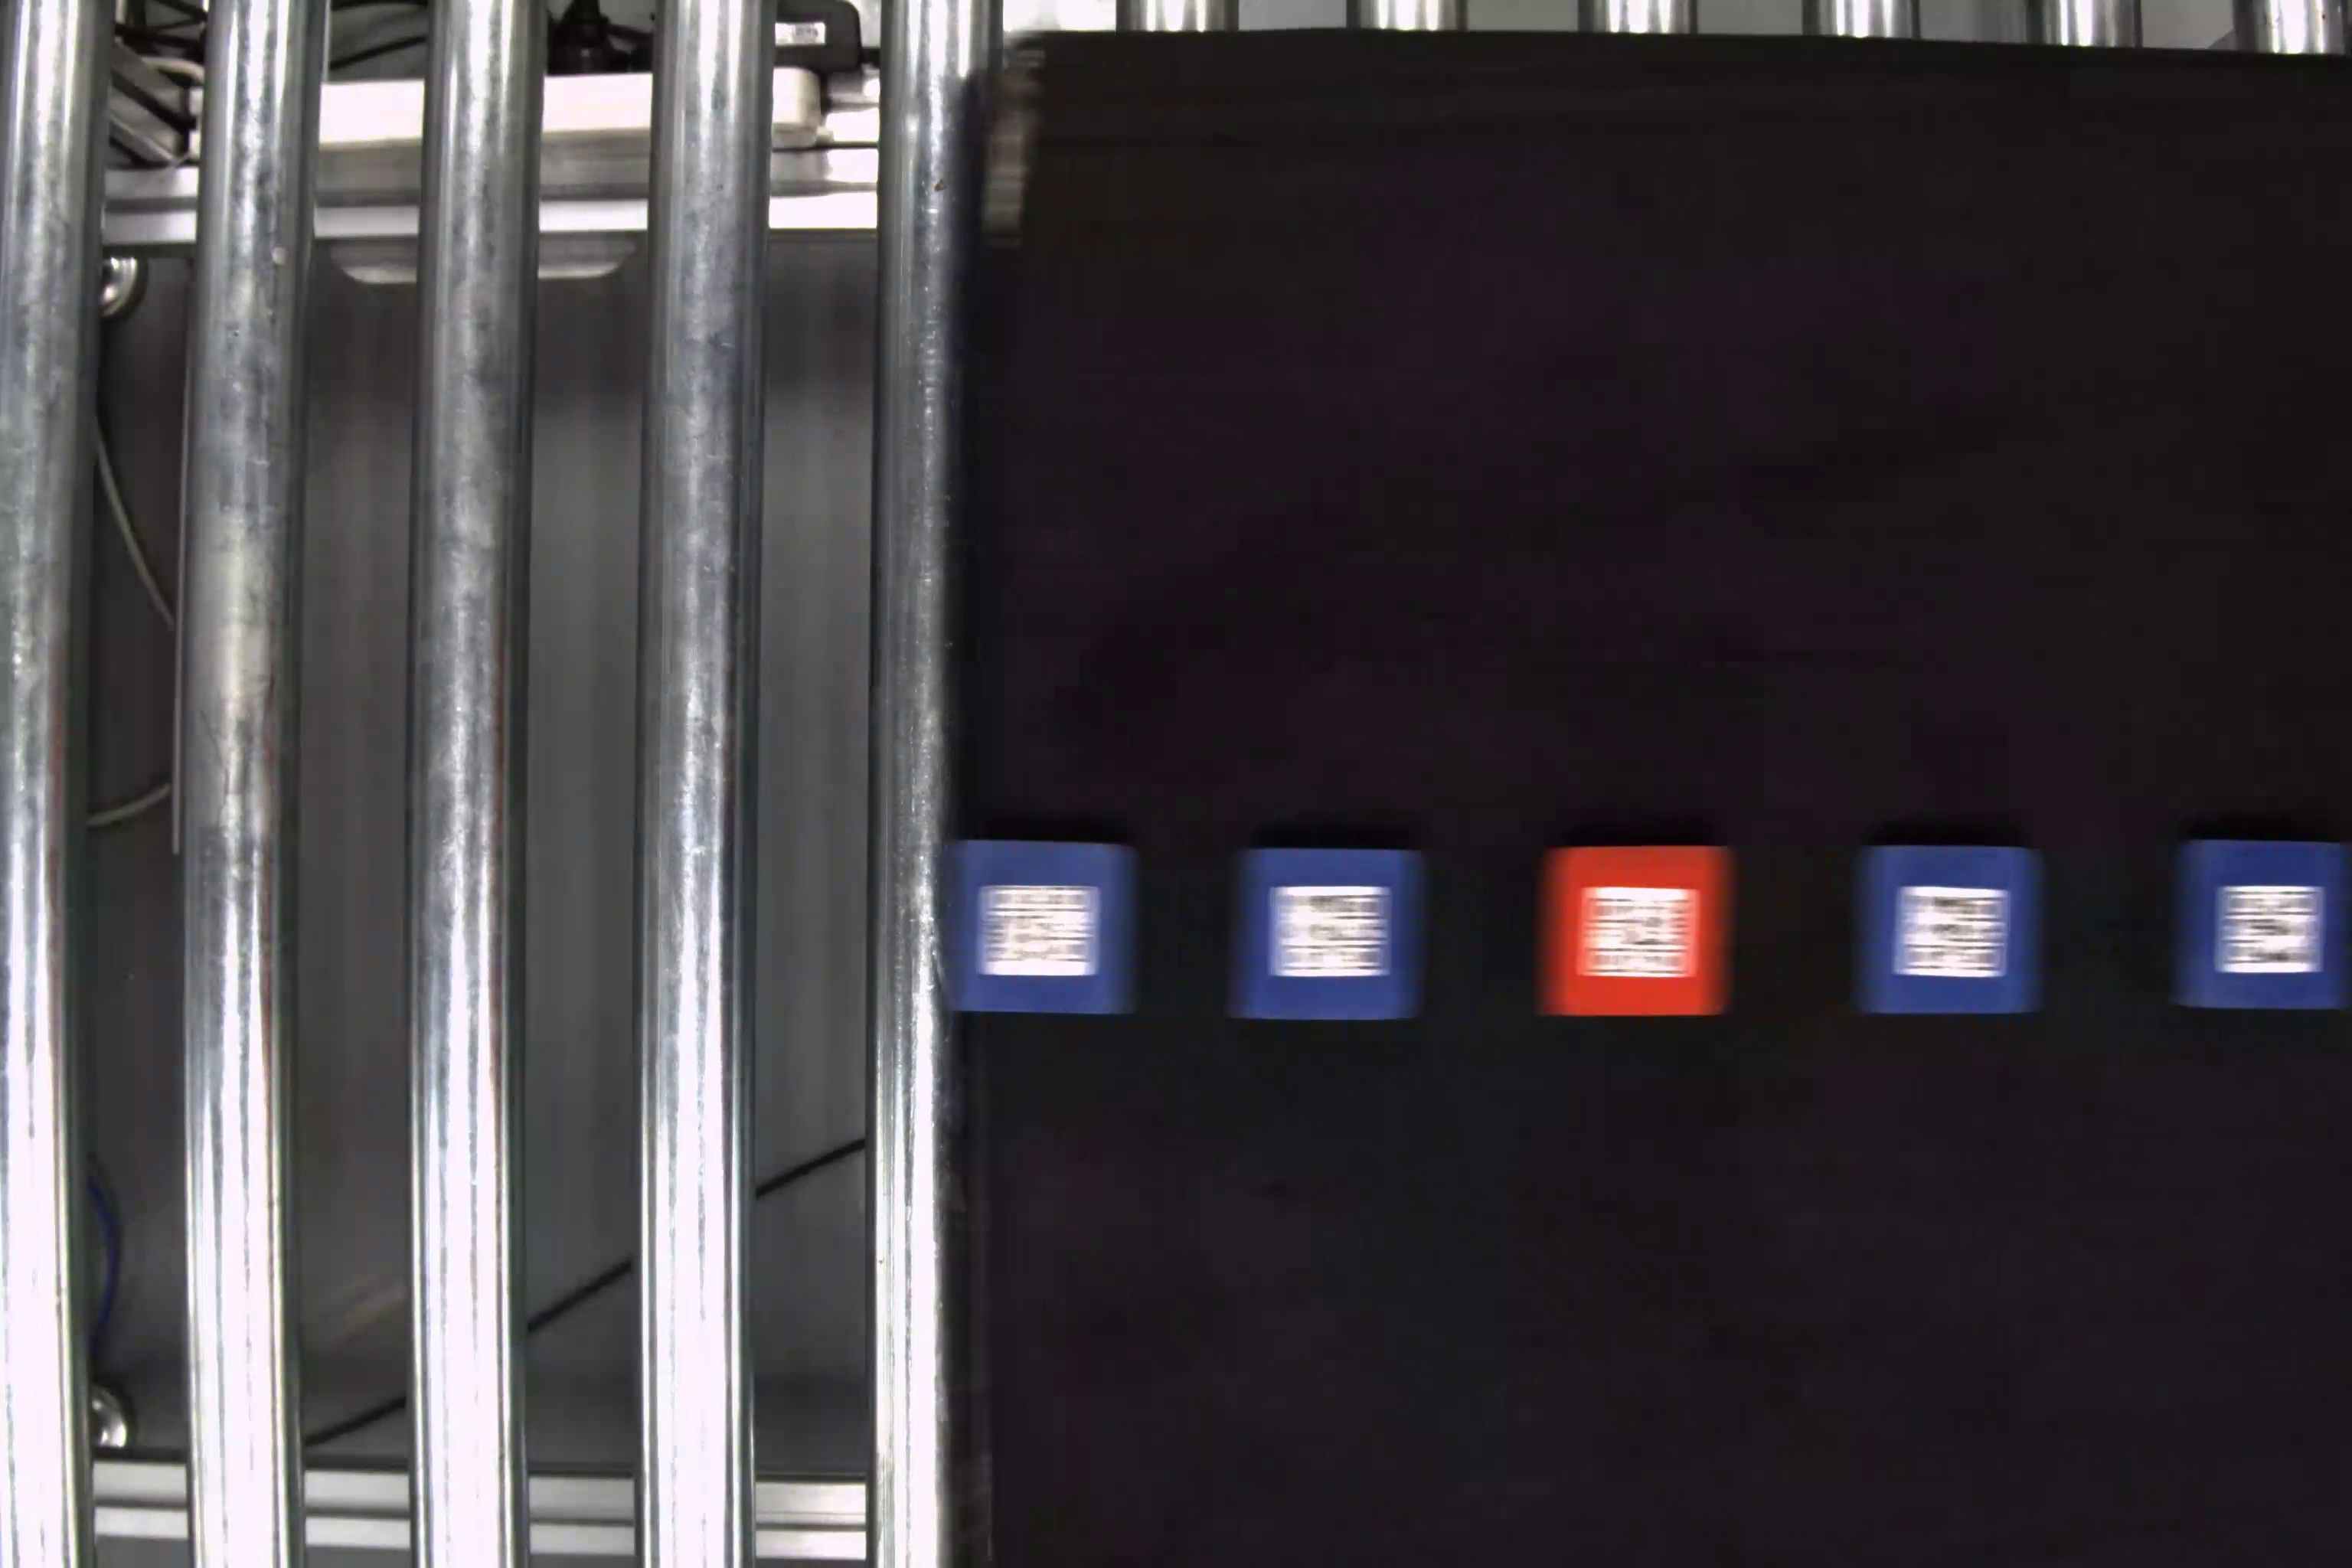wood: (941, 833, 1144, 1027), (1232, 842, 1424, 1027), (1851, 843, 2047, 1022), (1543, 845, 1739, 1022), (2175, 840, 2348, 1015)
